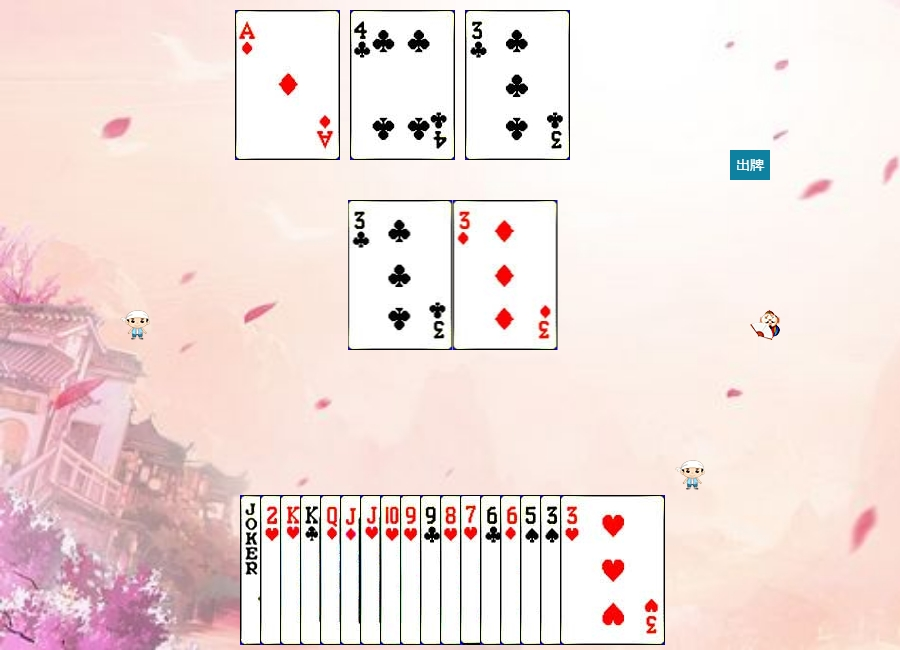10~3: (380, 495, 485, 645)
11~1: (340, 495, 445, 645)
11~3: (360, 495, 465, 645)
12~1: (320, 495, 425, 645)
13~2: (300, 495, 405, 645)
13~3: (280, 495, 385, 645)
14~1: (235, 10, 340, 160)
15~3: (260, 495, 365, 645)
17~3: (240, 495, 345, 645)
3~1: (453, 200, 558, 350)
3~2: (465, 10, 570, 160), (348, 200, 453, 350)
3~3: (560, 495, 665, 645)
3~4: (540, 495, 645, 645)
4~2: (350, 10, 455, 160)
5~4: (520, 495, 625, 645)
6~1: (500, 495, 605, 645)
6~2: (480, 495, 585, 645)
7~3: (460, 495, 565, 645)
8~3: (440, 495, 545, 645)
9~2: (420, 495, 525, 645)
9~3: (400, 495, 505, 645)
